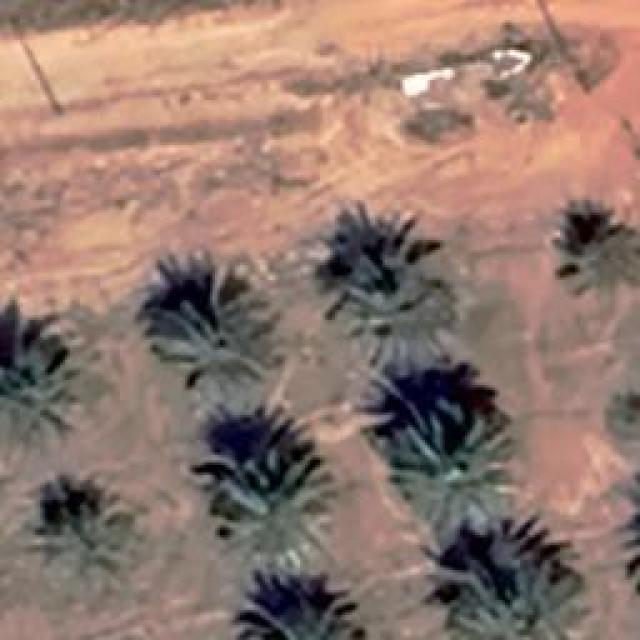PalmTree: (340, 222, 458, 376), (147, 270, 275, 392), (398, 395, 512, 530), (212, 435, 338, 555), (442, 552, 596, 638), (38, 485, 138, 585), (0, 342, 80, 448), (552, 200, 638, 295), (240, 595, 365, 640)
